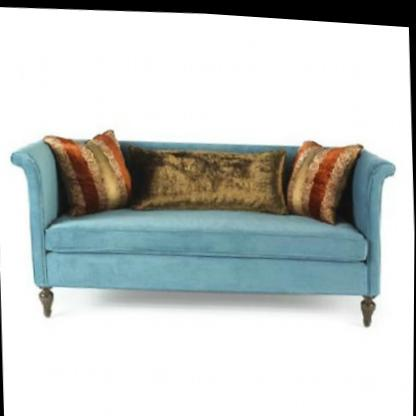Sofa: (9, 124, 401, 340)
